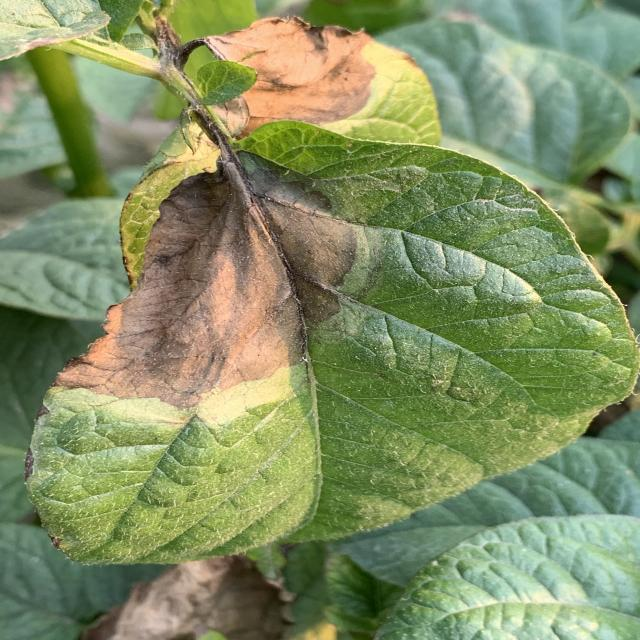lateblight: (55, 160, 305, 408), (238, 151, 367, 324), (203, 18, 375, 134), (330, 175, 380, 201)
